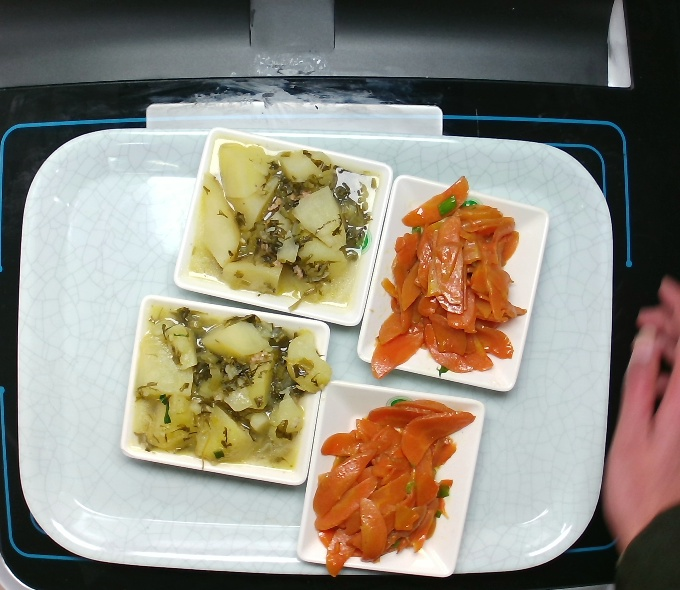wcq-HuLuoBo: (375, 185, 533, 369), (305, 394, 467, 555)
wcq-XueCaiTuDou: (189, 140, 383, 314), (125, 303, 319, 477)
